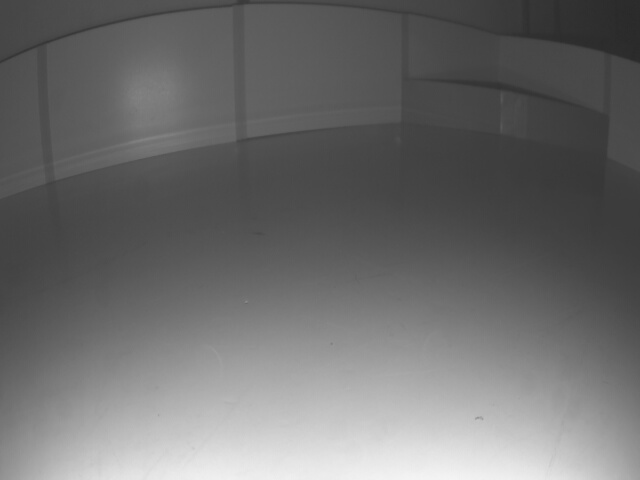Point: (400, 80, 613, 156)
